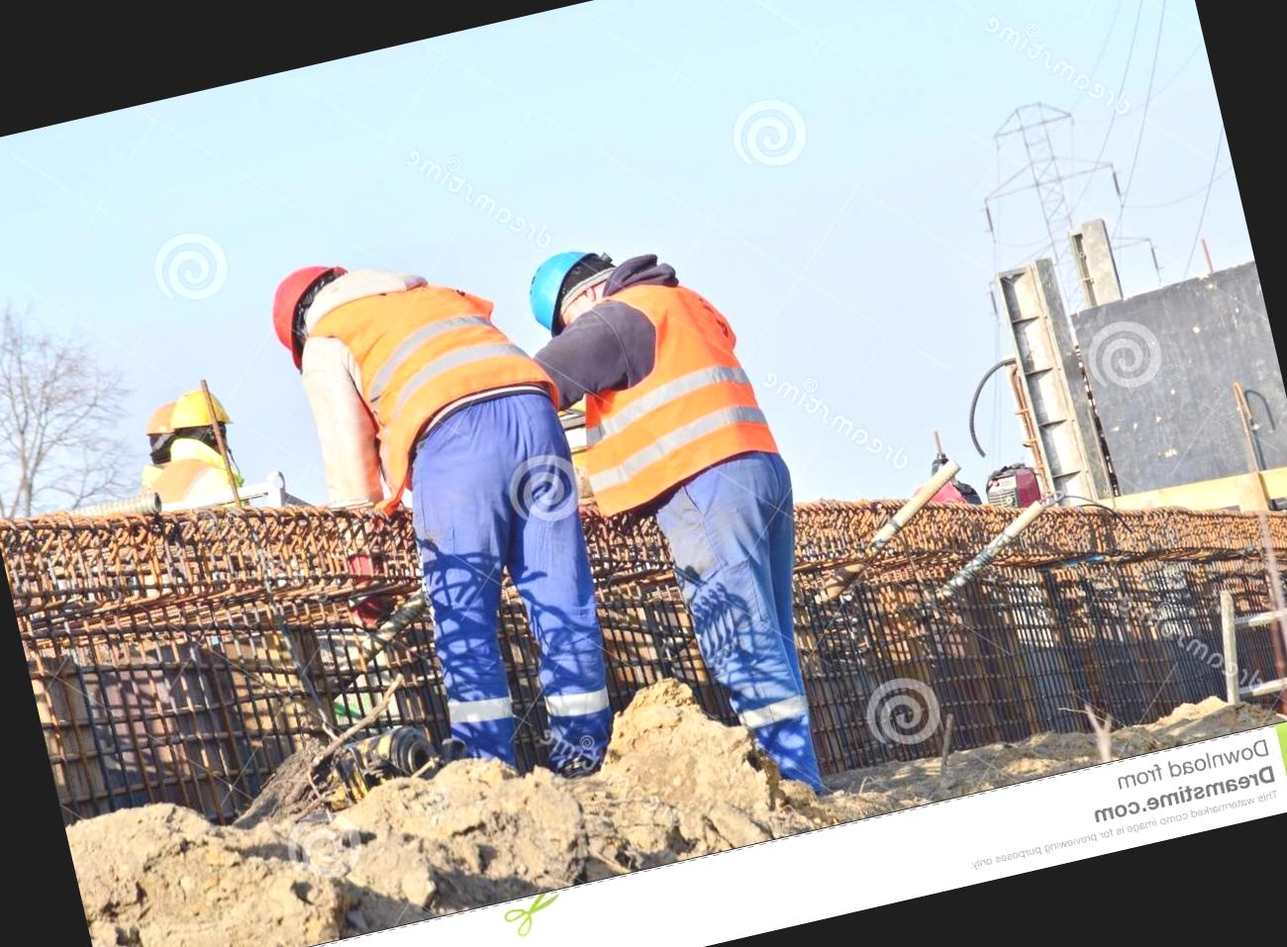person: (255, 204, 634, 805), (535, 205, 858, 820)
